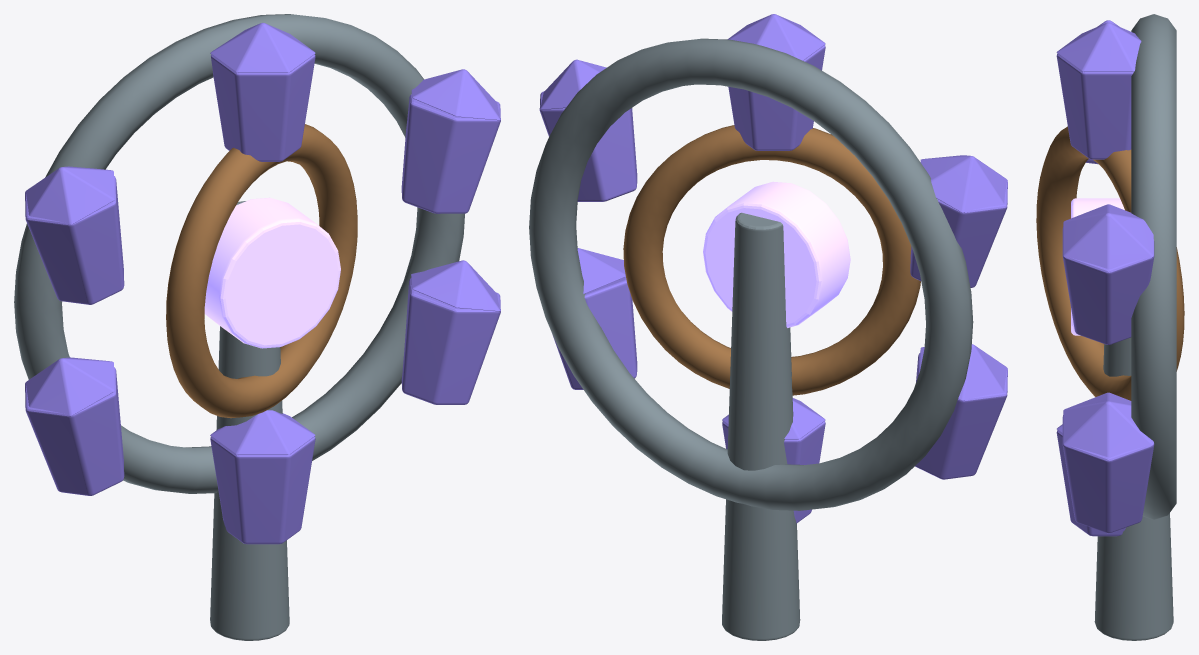
File: chamber_landmark.glb
3 renders of one model, left to right at view 1: azimuth 30°, elevation 25°; view 2: azimuth 150°, elevation 25°; view 3: azimuth 270°, elevation 25°, orthographic.
Parts seen in each view (by area): view 1: chamber_landmark; view 2: chamber_landmark; view 3: chamber_landmark.
Boxes of the visible parts, bbox=[...] form: chamber_landmark: bbox=[14, 14, 500, 640]; chamber_landmark: bbox=[529, 14, 1007, 640]; chamber_landmark: bbox=[1036, 14, 1184, 640].
Size of the model in its own units: 2.72 by 3.36 by 0.7486.
